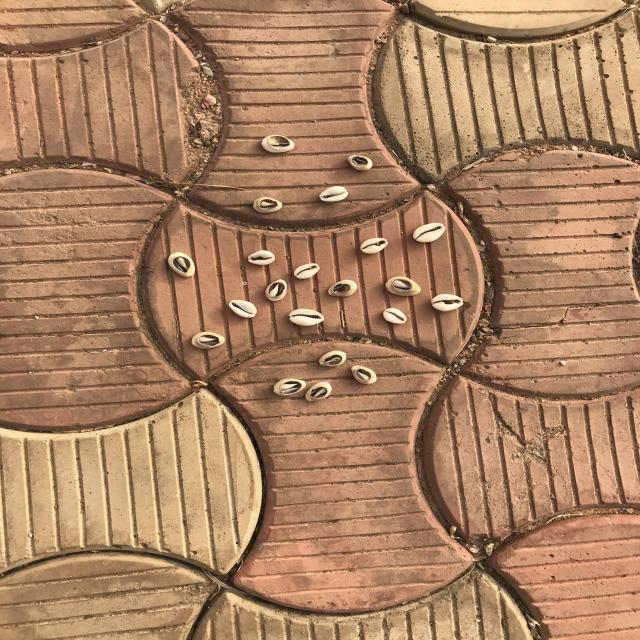facedown: (253, 130, 300, 160), (162, 250, 200, 282), (381, 273, 426, 298), (188, 328, 231, 352), (342, 150, 382, 175), (250, 195, 290, 218), (322, 278, 362, 299), (261, 276, 292, 303), (270, 377, 308, 397), (348, 364, 382, 386), (314, 349, 351, 368), (306, 381, 336, 403)
faceup: (311, 182, 356, 206), (284, 305, 332, 327), (221, 296, 263, 321), (426, 291, 469, 313), (411, 220, 448, 245), (243, 247, 280, 269), (380, 303, 411, 328), (355, 236, 391, 256), (292, 261, 323, 280)
